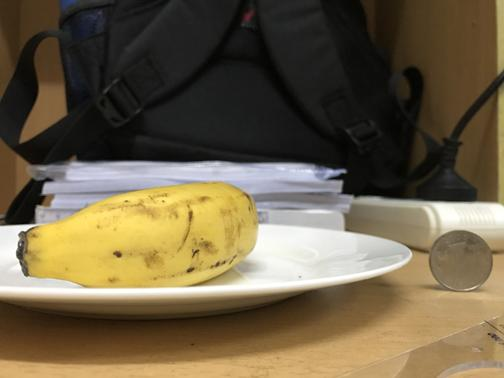banana: (21, 183, 258, 287)
coin: (428, 229, 493, 292)
